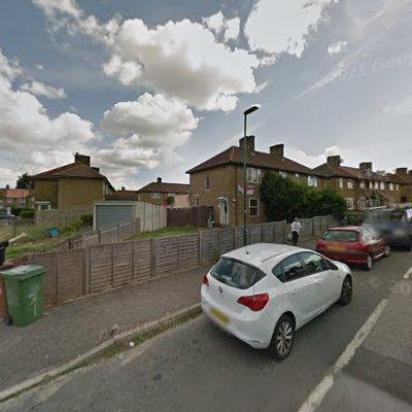stationary-car-onstreet: (201, 241, 356, 361), (316, 224, 392, 270)
stationary-light-truck-onstreet: (362, 206, 410, 252)
